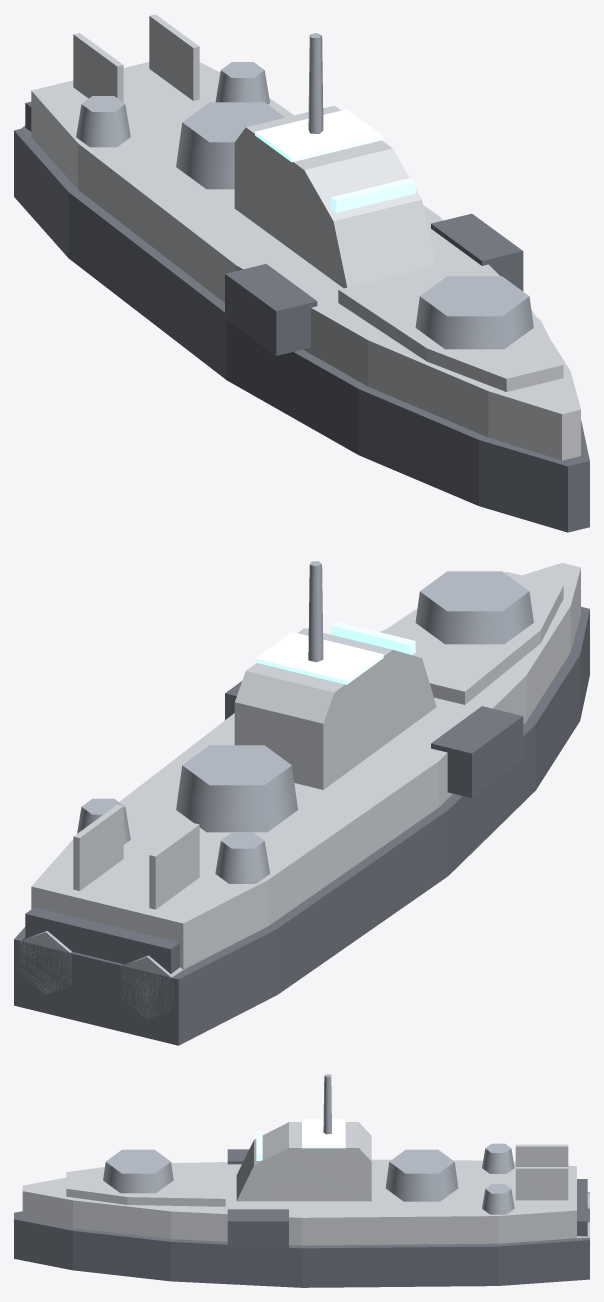
Rendered from testbed_destroyer_lod.glb.
3 views of the same model, one above another, from view 1: azimuth 30°, elevation 25°; view 2: azimuth 150°, elevation 25°; view 3: azimuth 270°, elevation 25° (orthographic). The views are drawn at different scales.
Visible parts, largest first — view 1: testbed_destroyer_lod_mesh; view 2: testbed_destroyer_lod_mesh; view 3: testbed_destroyer_lod_mesh.
Part boxes in pixels (<box>): testbed_destroyer_lod_mesh: <box>14,14,589,532</box>; testbed_destroyer_lod_mesh: <box>14,561,589,1045</box>; testbed_destroyer_lod_mesh: <box>14,1074,589,1287</box>.
Bounding box in the file's own units: 7.8 × 9.1 × 26.4.
